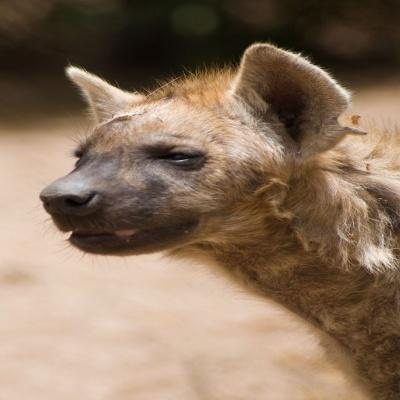hyenas: (26, 33, 400, 400)
